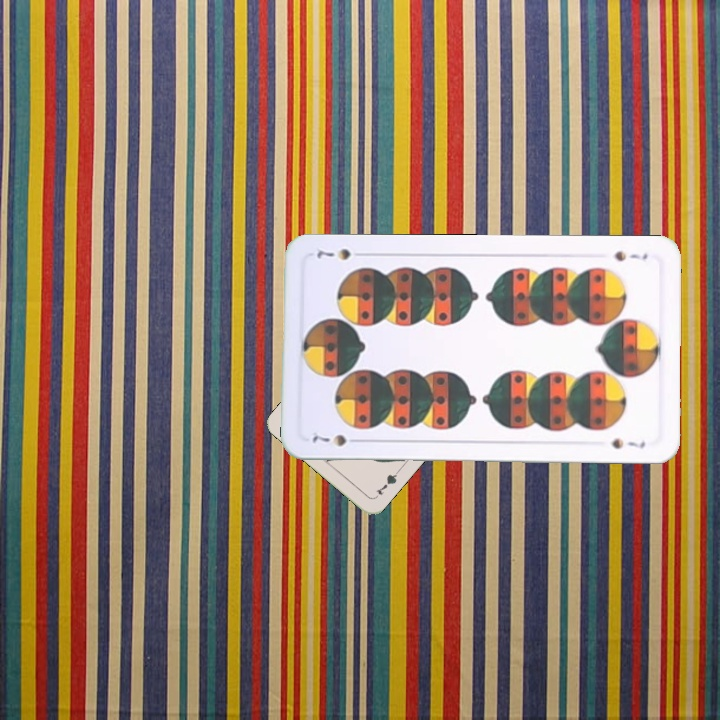G7: (371, 467, 401, 501)
S7: (308, 430, 364, 449), (611, 247, 650, 264)
